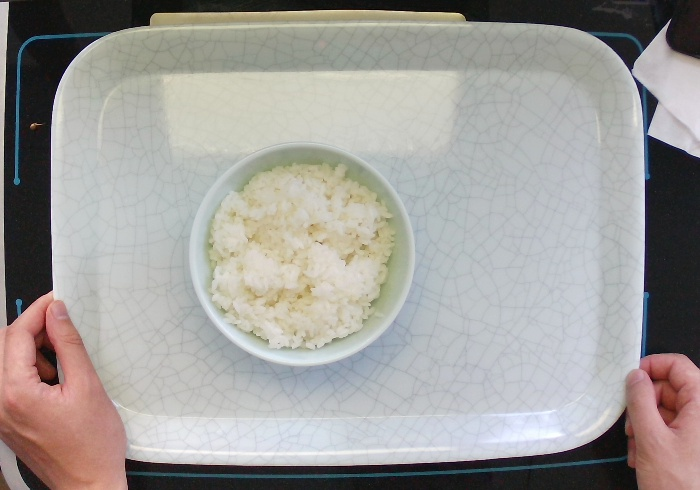JYsf-Fan_Wan: (182, 136, 420, 371)
